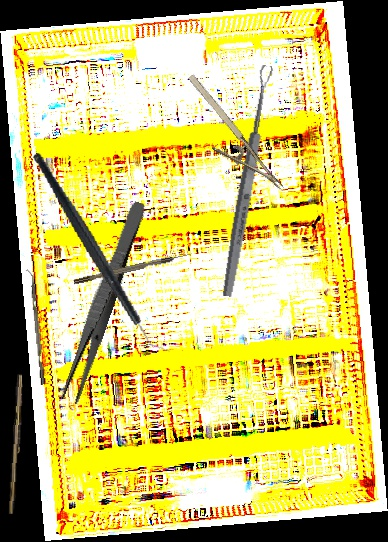Chopper: (31, 135, 172, 372), (24, 268, 46, 386)
Dressing Forceps: (58, 198, 149, 406)
Hook Surgical: (72, 251, 194, 285)
Needle Holder: (169, 71, 285, 209)
Scalpel Handle: (7, 373, 26, 515)
Surgical Spoon: (219, 64, 276, 298)
